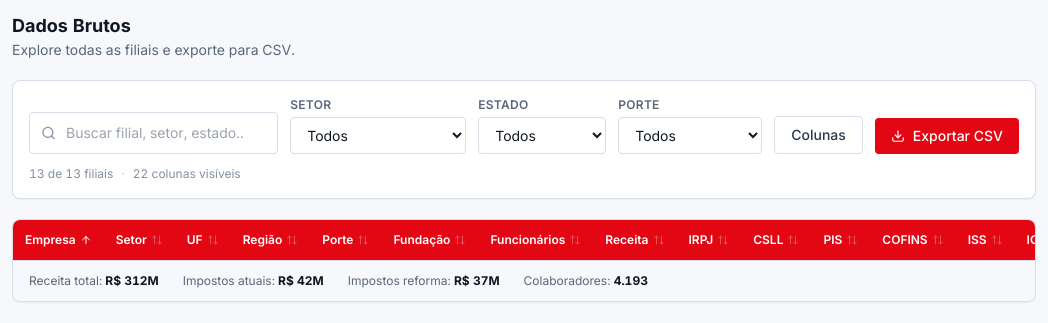
Scenario: RawDataPage › shows active filter count with multiple filters
This screenshot has width=1048, height=323.
Select "Varejo" in the 1st dropdown at (378, 136), box [290,117,466,154]
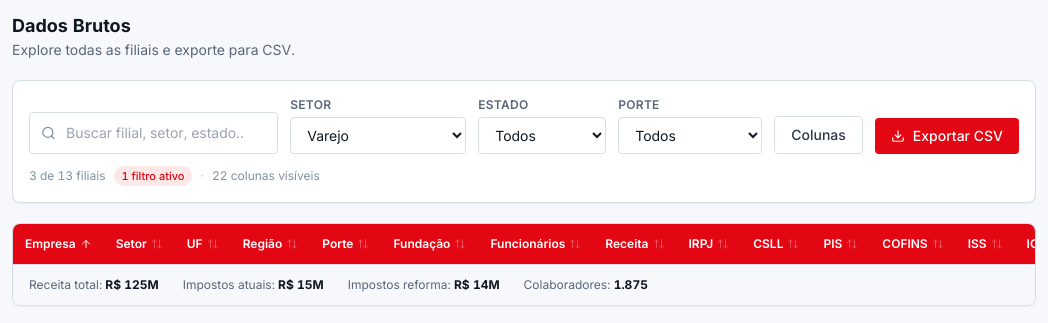
Select "SP" in the dropdown below "Estado" at (542, 136), box [478,117,606,154]
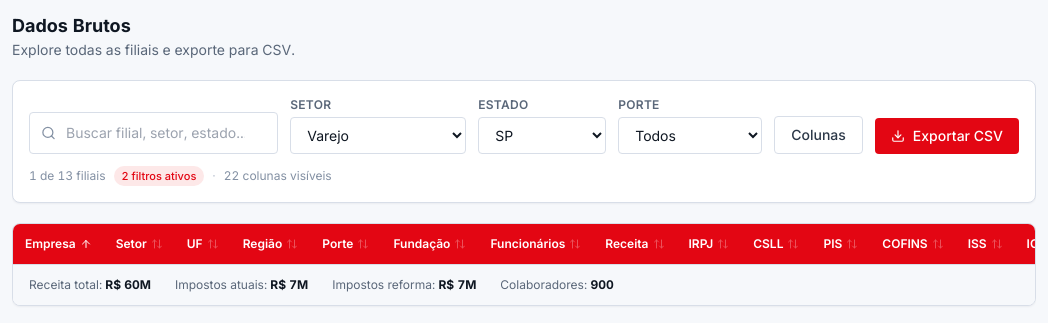
Check: the text "2 filtros ativos" is shown, box [114,166,204,186]
